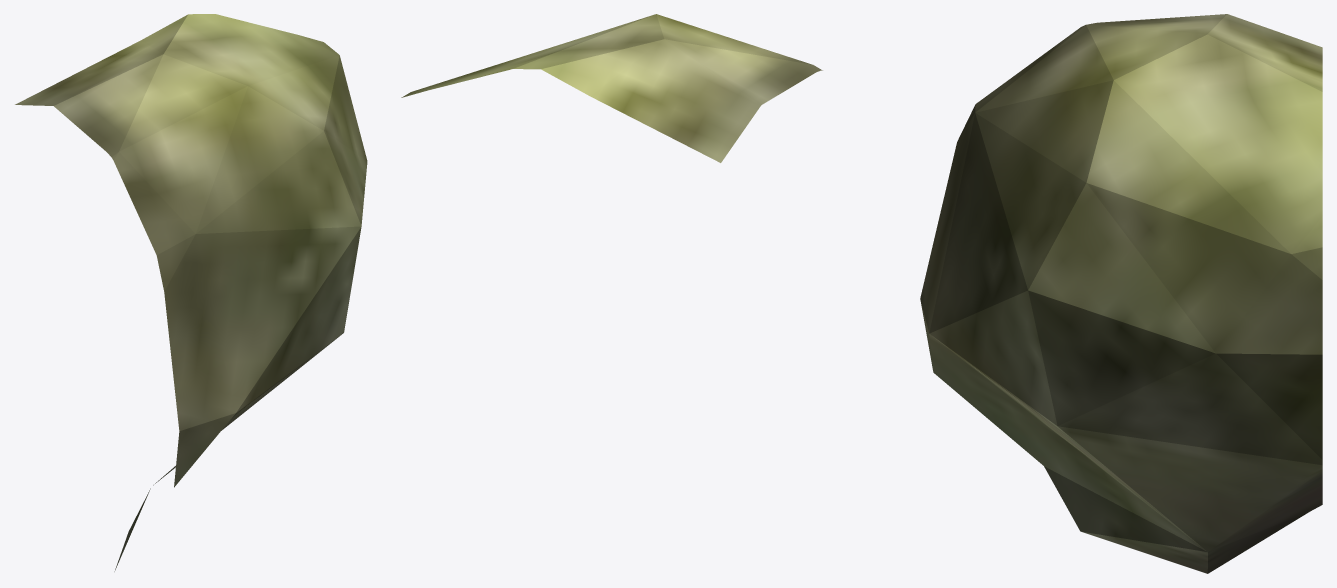
3 renders of one model, left to right at view 1: azimuth 30°, elevation 25°; view 2: azimuth 150°, elevation 25°; view 3: azimuth 270°, elevation 25°, orthographic. The views are drawn at different scales.
Bounding box in the file's own units: 0.254 × 0.3806 × 0.2313.
Materials: 1 (1 with a texture image).
